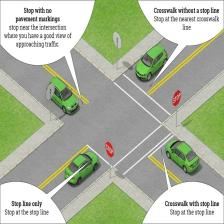Stop-sign: (103, 138, 115, 161), (172, 91, 182, 106)
